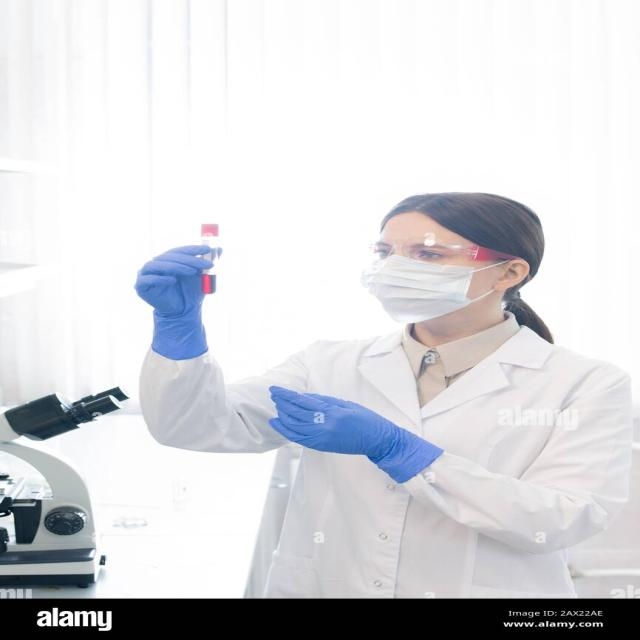Gloves: (262, 387, 451, 486), (138, 244, 220, 357)
Mask: (344, 245, 545, 323)
